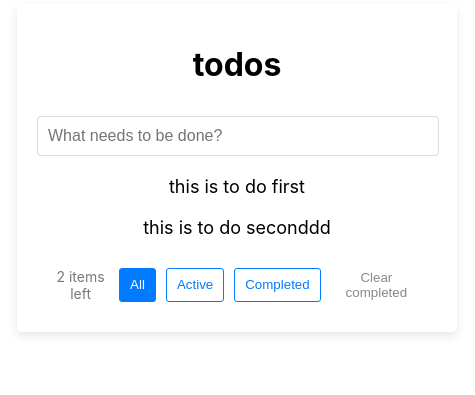
TodoApp › allows adding a new todo
Type "New Todo Task" into the field with placeholder "What needs to be done?" at (238, 136), box [37,116,439,156]
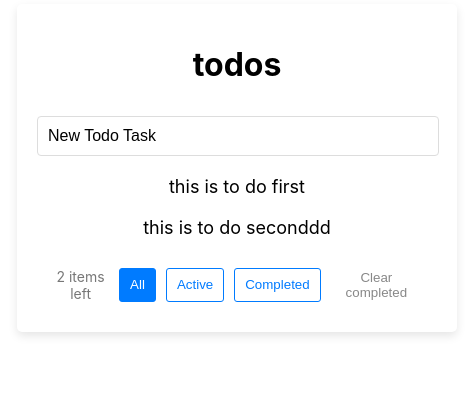
Press Enter in the field with placeholder "What needs to be done?", box [37,116,439,156]
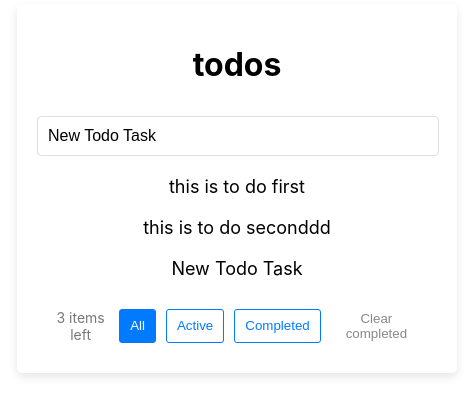
Check: the list item "New Todo Task" is shown, box [171,258,303,279]
